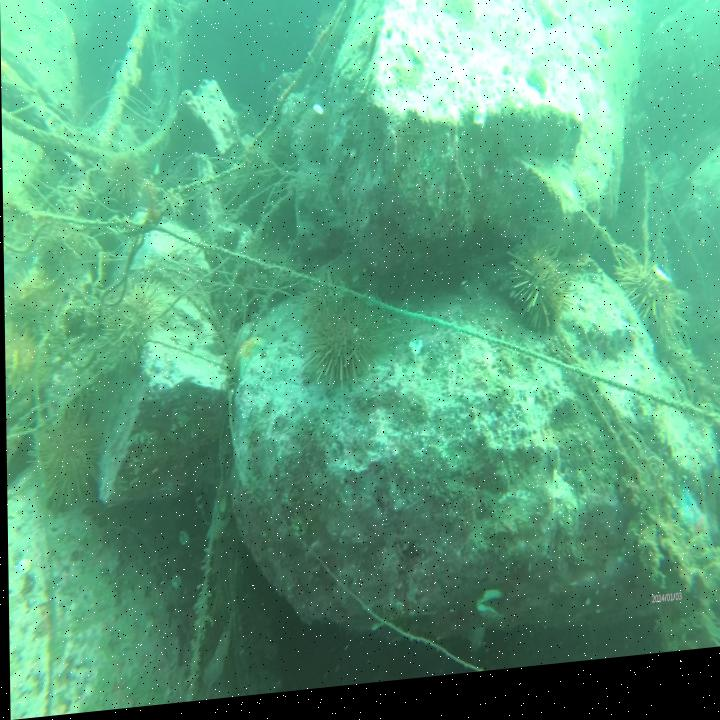echinus: (295, 273, 383, 420), (611, 244, 689, 374), (33, 395, 105, 519), (507, 243, 573, 350), (91, 286, 163, 373), (11, 261, 62, 333), (6, 313, 46, 397), (102, 144, 146, 213), (292, 102, 333, 176), (308, 10, 349, 72)
starfish: (672, 486, 713, 574), (228, 338, 266, 388)
